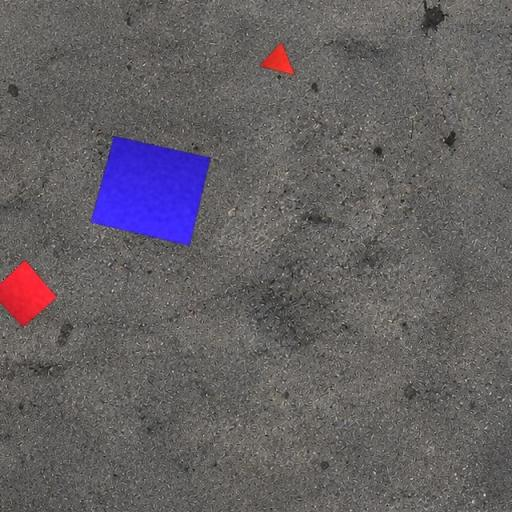BLUE_SQUARE: (90, 136, 211, 246)
RED_SQUARE: (0, 259, 58, 328)
